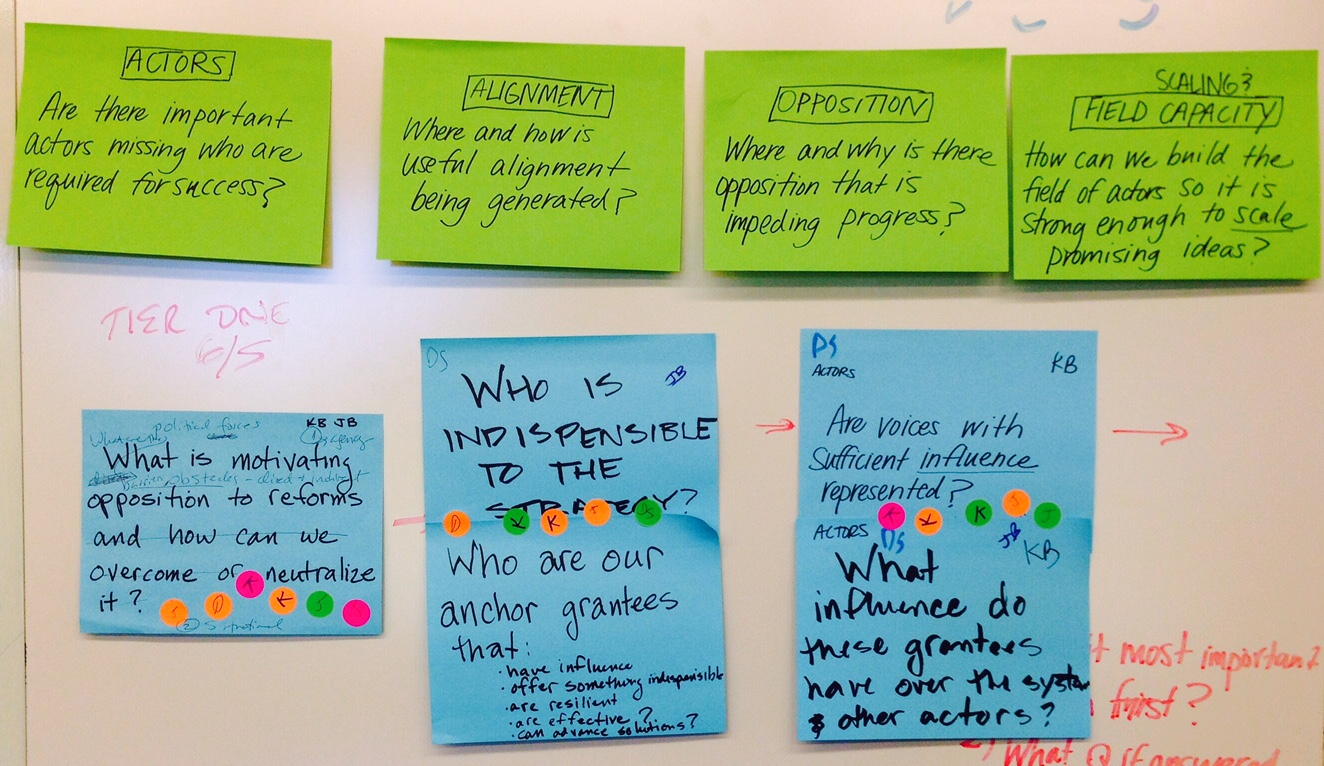stickynote: (416, 329, 736, 744), (789, 324, 1102, 746), (6, 20, 339, 273), (75, 399, 394, 644), (376, 32, 690, 276), (1011, 49, 1324, 283), (698, 45, 1012, 277)
